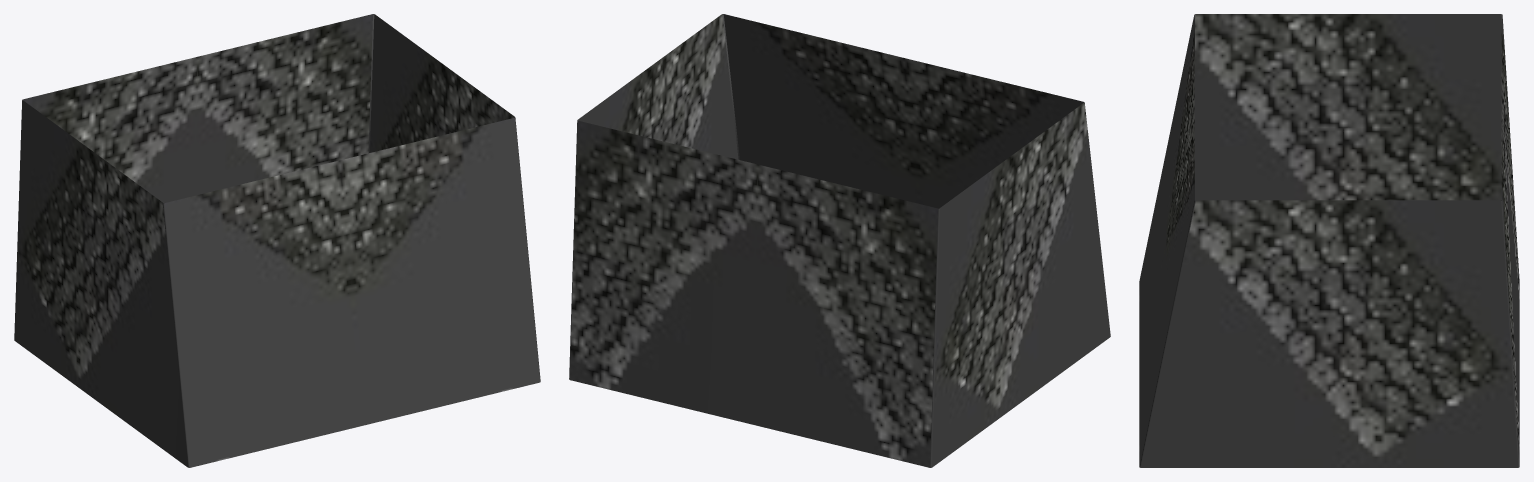
The model's file is Glass bulldozer.fbx.
3 views of the same model, side by side, from view 1: azimuth 30°, elevation 25°; view 2: azimuth 150°, elevation 25°; view 3: azimuth 270°, elevation 25° (orthographic). The views are drawn at different scales.
Visible parts, largest first — view 1: Glass bulldozer; view 2: Glass bulldozer; view 3: Glass bulldozer.
Part boxes in pixels (<box>): Glass bulldozer: <box>14,14,540,467</box>; Glass bulldozer: <box>569,14,1110,467</box>; Glass bulldozer: <box>1139,14,1519,467</box>.
Bounding box in the file's own units: 1.53 × 1.02 × 1.32.
